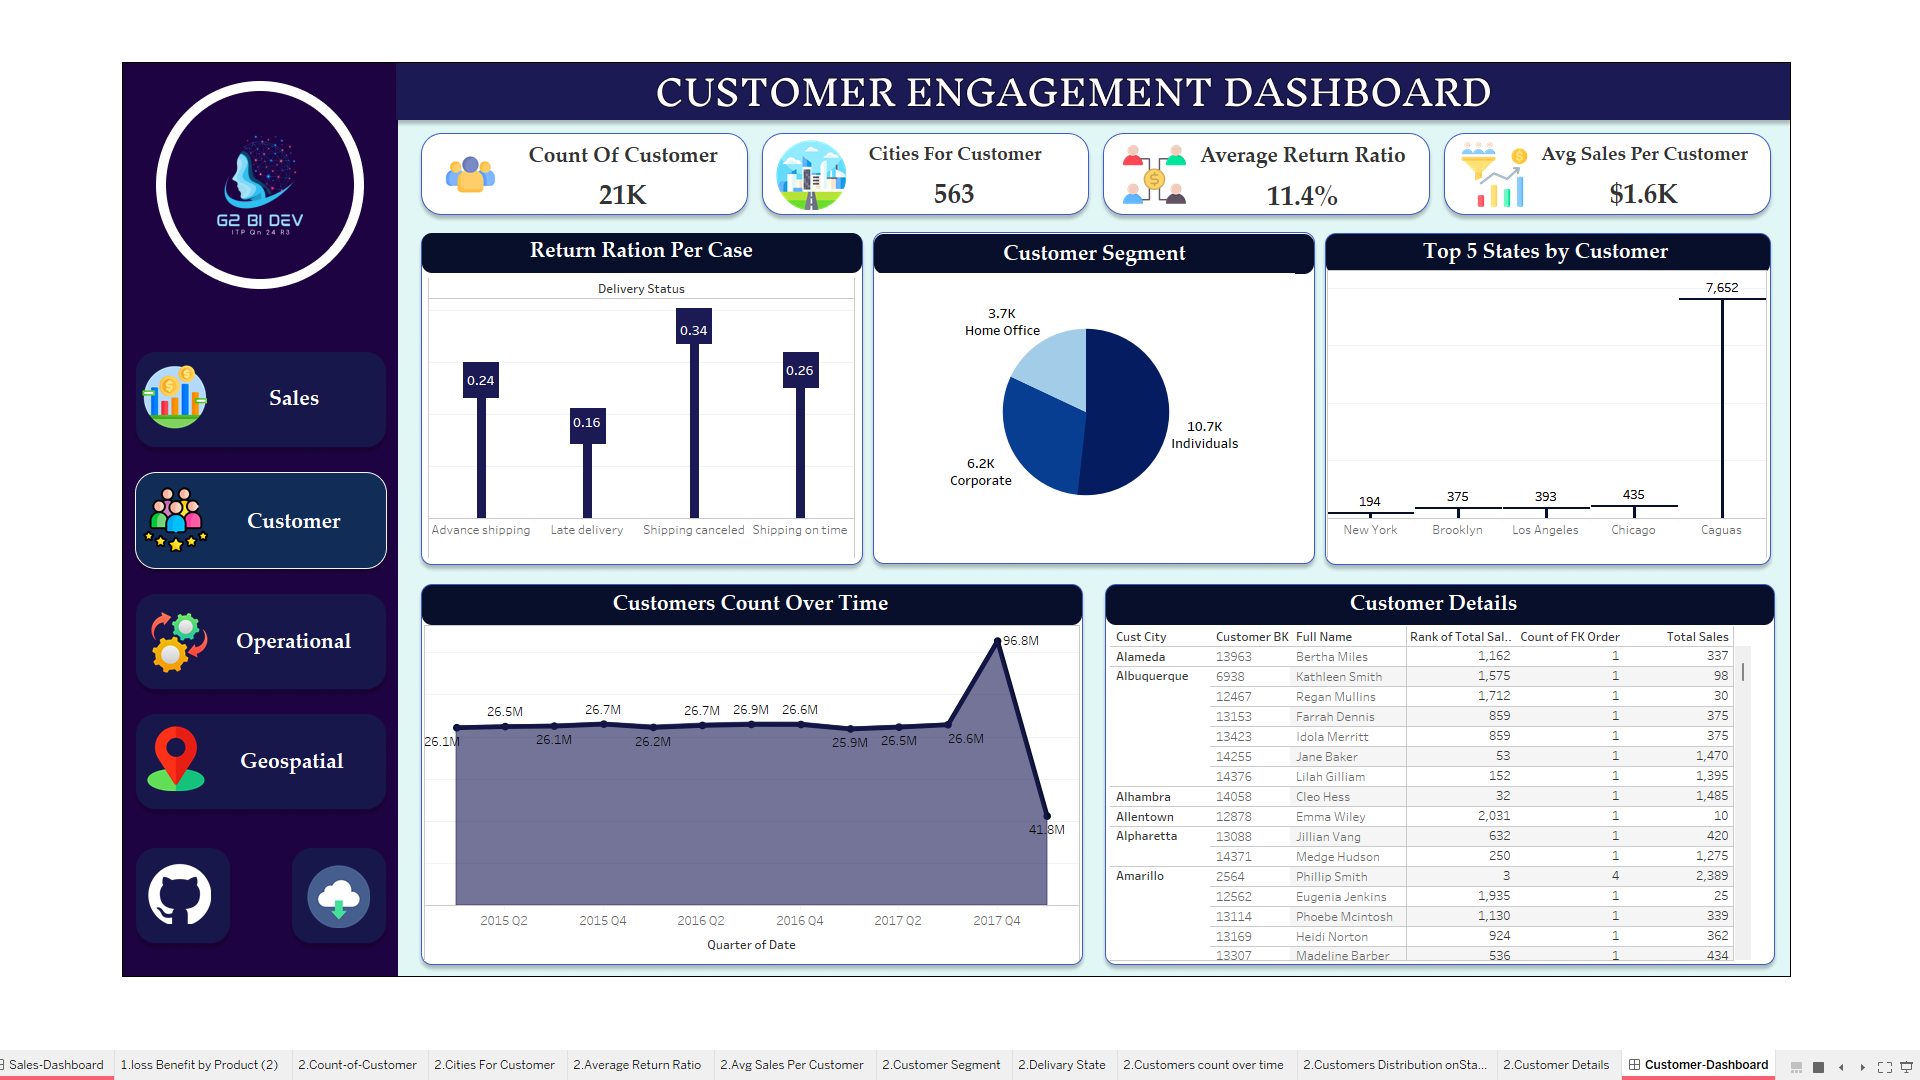

This screenshot's page, from the dashboard's own definition file:
{"tool":"tableau","page":{"name":"Customer-Dashboard","canvas":[1700,950],"ordinal":0},"visuals":[{"type":"image","param":"C:/Users/mahmo/OneDrive/Desktop/Sales/background/New folder (2)/Customer.png","box":[8,8,1684,934]},{"type":"image","param":"C:/Users/mahmo/OneDrive/Desktop/Sales-project/ICONS/count of customer.png","box":[325,84,70,80]},{"type":"image","param":"C:/Users/mahmo/OneDrive/Desktop/Sales-project/ICONS/Customer-ratio.jpg","box":[1009,84,70,80]},{"type":"image","param":"C:/Users/mahmo/OneDrive/Desktop/Sales-project/ICONS/avg-sales-per-customer.png","box":[1349,84,70,80]},{"type":"image","param":"C:/Users/mahmo/OneDrive/Desktop/Sales-project/ICONS/cities-for-customer.jpg","box":[666,85,70,80]},{"type":"worksheet","title":"2.Count-of-Customer","mark":"Automatic","box":[408,86,210,75]},{"type":"worksheet","title":"2.Cities For Customer","mark":"Automatic","box":[740,86,210,75]},{"type":"worksheet","title":"2.Average Return Ratio","mark":"Automatic","box":[1082,86,222,75]},{"type":"worksheet","title":"2.Avg Sales Per Customer","mark":"Automatic","box":[1421,86,227,75]},{"type":"text","box":[325,184,629,36]},{"type":"text","box":[1014,184,629,36]},{"type":"worksheet","title":"2.Customer Details","mark":"Automatic","rows":["Cust_City","Customer_BK","Calculation_1244400927322120196"],"box":[995,223,665,266]},{"type":"worksheet","title":"2.Customers Distribution onStates ","mark":"Line","rows":["Customer_BK","Customer_BK"],"cols":["Cust_City"],"box":[317,226,648,268]},{"type":"dashboard-object","box":[108,312,153,70]},{"type":"image","param":"C:/Users/mahmo/OneDrive/Desktop/Sales-project/ICONS/sales-dashboard.png","box":[30,314,70,65]},{"type":"dashboard-object","box":[108,435,153,70]},{"type":"image","param":"C:/Users/mahmo/OneDrive/Desktop/Sales-project/ICONS/customer-dashboard.png","box":[31,437,70,65]},{"type":"text","box":[1007,525,642,36]},{"type":"text","box":[326,526,294,36]},{"type":"text","box":[652,526,309,36]},{"type":"dashboard-object","box":[108,556,153,69]},{"type":"image","param":"C:/Users/mahmo/OneDrive/Desktop/Sales-project/ICONS/operational-dashboard.png","box":[34,561,70,62]},{"type":"worksheet","title":"2.Customers count over time","mark":"Automatic","rows":["Customer_BK","Customer_BK"],"cols":["Date"],"box":[649,564,314,279]},{"type":"worksheet","title":"2.Delivary State","mark":"Automatic","rows":["Calculation_1244400927306526721","Calculation_1244400927306526721"],"cols":["Delivery_Status"],"box":[1000,571,655,276]},{"type":"worksheet","title":"2.Customer Segment","mark":"Pie","box":[317,572,312,271]},{"type":"image","param":"C:/Users/mahmo/OneDrive/Desktop/Sales-project/ICONS/geo-dashboard.png","box":[31,676,70,65]},{"type":"dashboard-object","box":[108,676,153,69]},{"type":"image","param":"C:/Users/mahmo/OneDrive/Desktop/Sales-project/ICONS/github-mark-white.png","box":[38,809,63,70]},{"type":"dashboard-object","box":[197,812,63,70]},{"type":"filter","title":"2.Customers count over time","param":"[federated.0a7f3eg1xpprtt1e4fdhm1t957b5].[yr:Date:ok]","box":[1011,868,631,44]},{"type":"filter","title":"2.Customer Segment","param":"[federated.0a7f3eg1xpprtt1e4fdhm1t957b5].[none:Segment_Name:nk]","box":[329,870,623,44]}]}

Visuals, with their boxes on the page's 1700x950 design canvas (x1, y1, x2, y2). These are canvas units, not pixel positions in the 1920x1080 screenshot, which may show the page scaled, cropped or inside an application window:
image: l=8, t=8, r=1692, b=942
image: l=325, t=84, r=395, b=164
image: l=1009, t=84, r=1079, b=164
image: l=1349, t=84, r=1419, b=164
image: l=666, t=85, r=736, b=165
"2.Count-of-Customer" worksheet: l=408, t=86, r=618, b=161
"2.Cities For Customer" worksheet: l=740, t=86, r=950, b=161
"2.Average Return Ratio" worksheet: l=1082, t=86, r=1304, b=161
"2.Avg Sales Per Customer" worksheet: l=1421, t=86, r=1648, b=161
text: l=325, t=184, r=954, b=220
text: l=1014, t=184, r=1643, b=220
"2.Customer Details" worksheet: l=995, t=223, r=1660, b=489
"2.Customers Distribution onStates " worksheet (Line marks): l=317, t=226, r=965, b=494
dashboard-object: l=108, t=312, r=261, b=382
image: l=30, t=314, r=100, b=379
dashboard-object: l=108, t=435, r=261, b=505
image: l=31, t=437, r=101, b=502
text: l=1007, t=525, r=1649, b=561
text: l=326, t=526, r=620, b=562
text: l=652, t=526, r=961, b=562
dashboard-object: l=108, t=556, r=261, b=625
image: l=34, t=561, r=104, b=623
"2.Customers count over time" worksheet: l=649, t=564, r=963, b=843
"2.Delivary State" worksheet: l=1000, t=571, r=1655, b=847
"2.Customer Segment" worksheet (Pie marks): l=317, t=572, r=629, b=843
image: l=31, t=676, r=101, b=741
dashboard-object: l=108, t=676, r=261, b=745
image: l=38, t=809, r=101, b=879
dashboard-object: l=197, t=812, r=260, b=882
"2.Customers count over time" filter: l=1011, t=868, r=1642, b=912
"2.Customer Segment" filter: l=329, t=870, r=952, b=914
